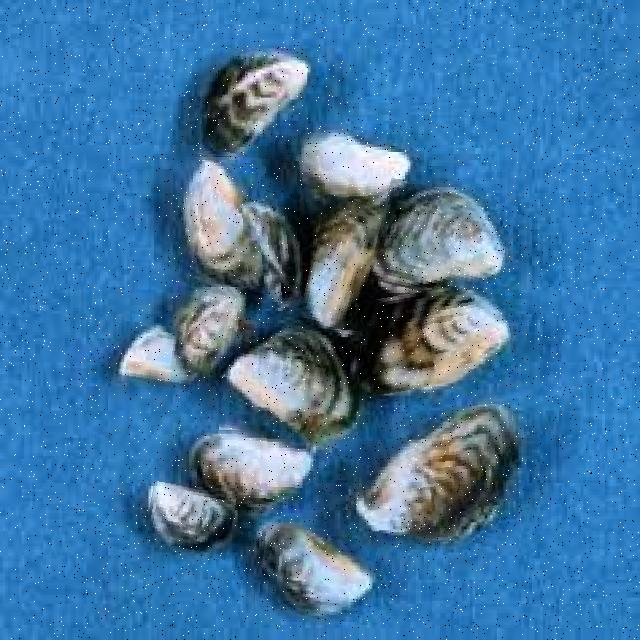Dreissena_bugensis: (359, 406, 520, 545), (221, 322, 360, 446), (359, 283, 513, 390), (373, 185, 513, 301), (200, 48, 307, 160), (256, 524, 376, 621), (304, 198, 383, 334), (181, 160, 263, 287), (299, 132, 416, 213), (193, 430, 310, 509), (145, 484, 235, 558), (173, 287, 245, 376), (244, 199, 302, 309), (119, 324, 198, 390)
